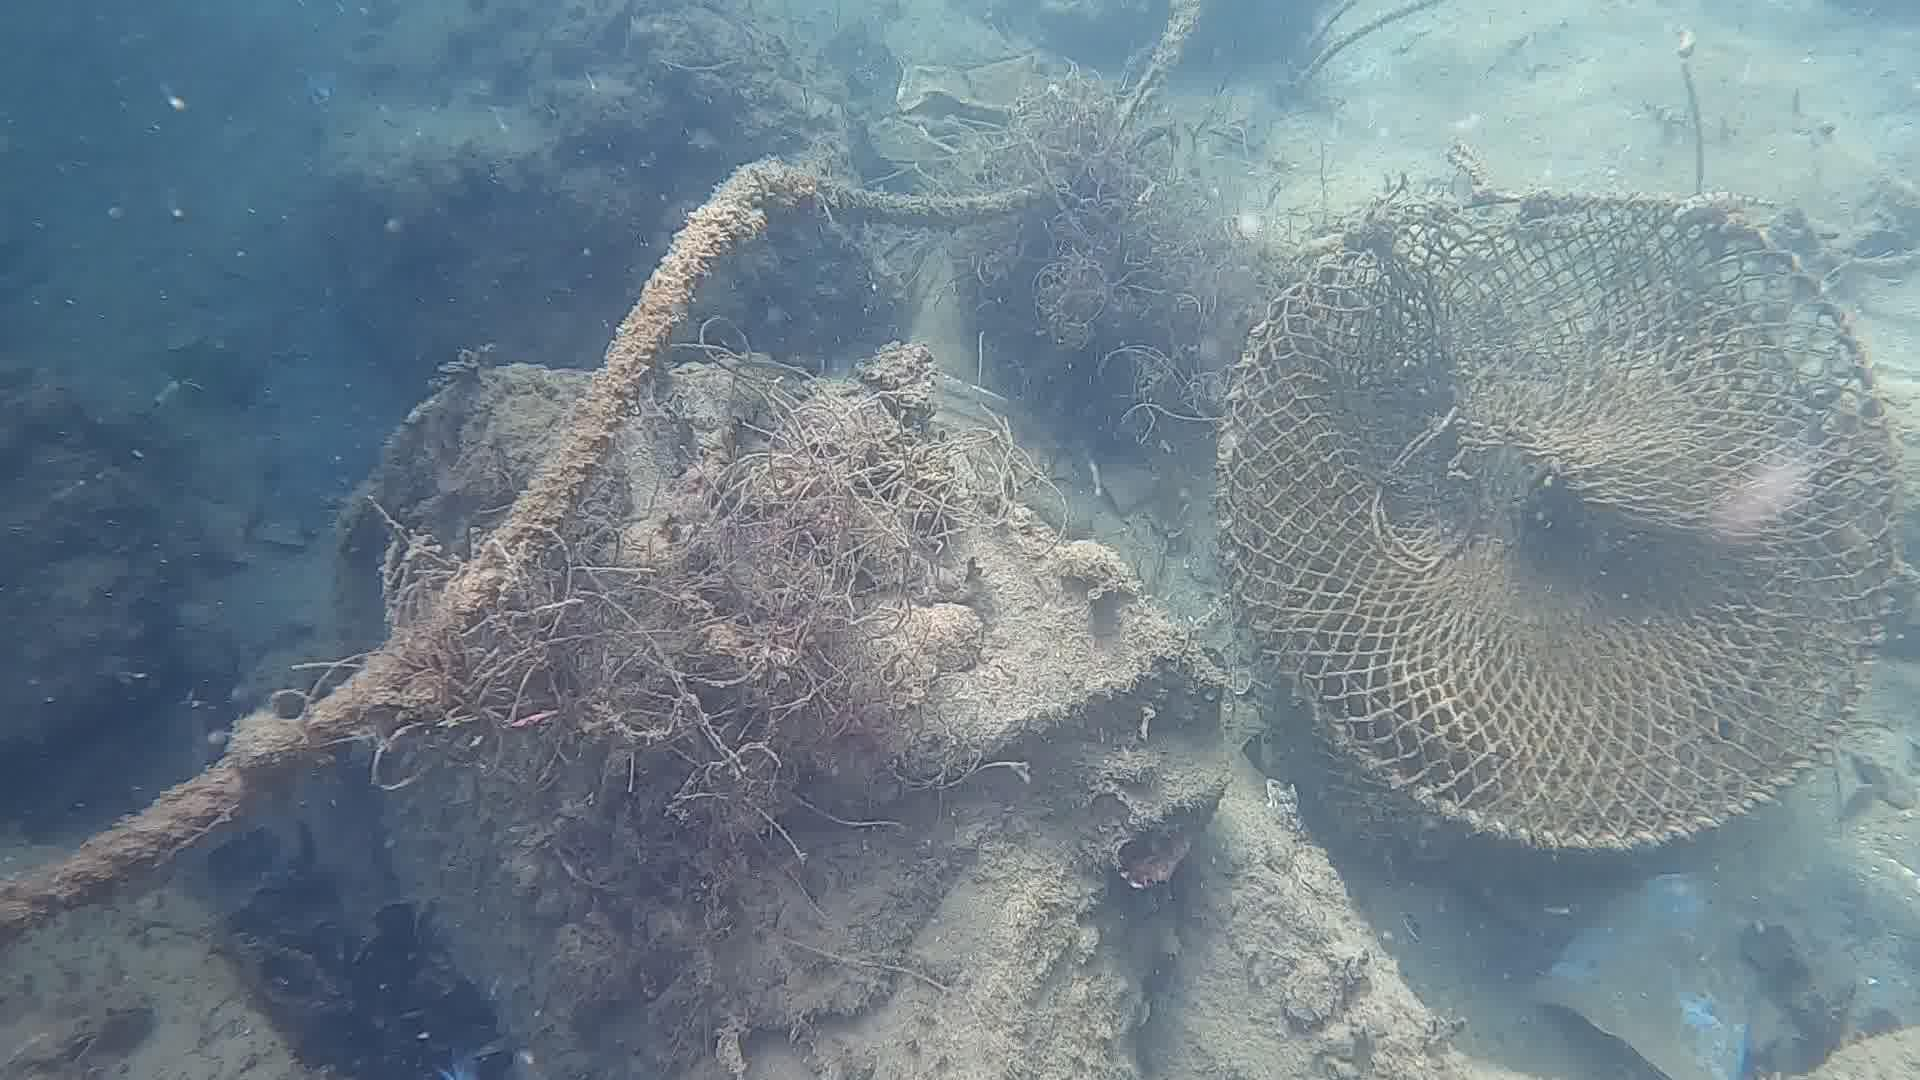circular fish trap: (1208, 177, 1894, 876)
rope: (0, 1, 1203, 942)
